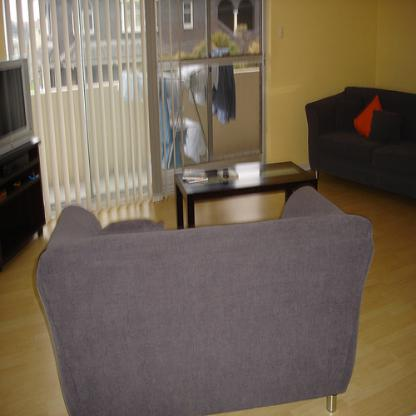sofa: (35, 185, 376, 415), (305, 85, 415, 200)
tvmonitor: (0, 56, 34, 156)
